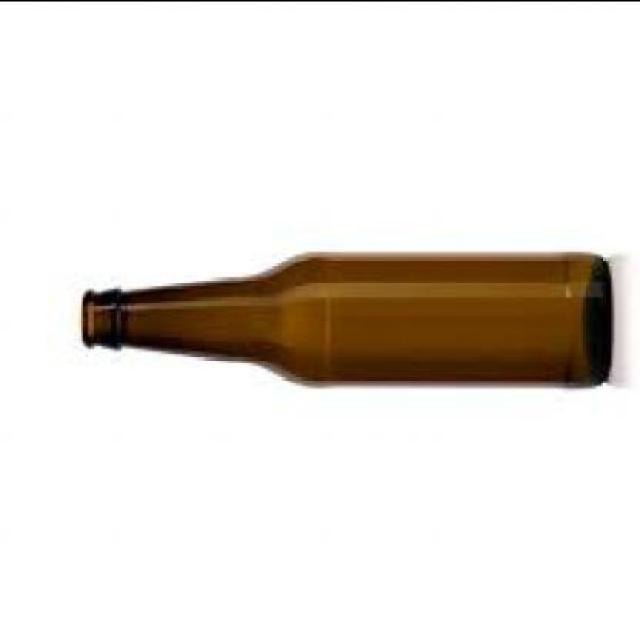GLASS: (82, 248, 608, 383)
